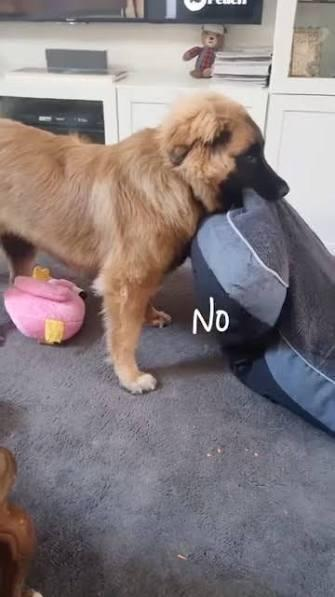adult_dog: (0, 91, 290, 395)
